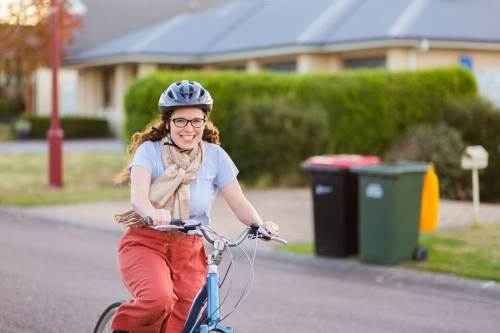helmet: (157, 80, 213, 150)
